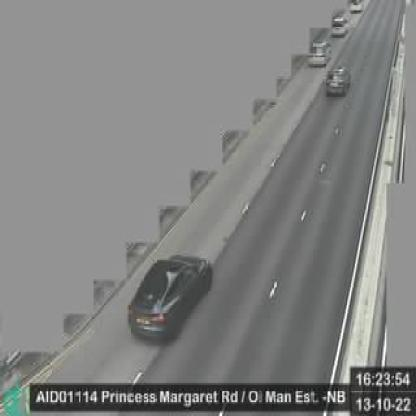Car: (127, 252, 214, 343), (327, 66, 351, 96), (308, 41, 330, 67), (333, 17, 349, 36), (350, 1, 363, 12)
